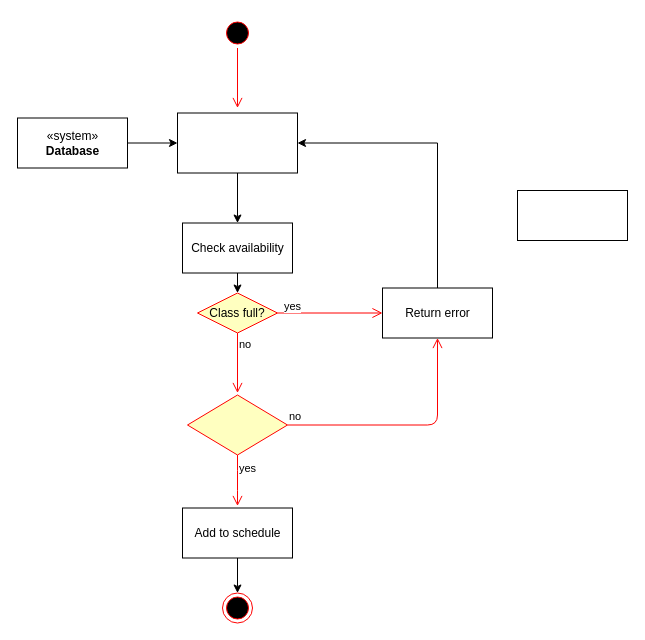
Some shapes in this 645 by 640 pixel diagram are drawn without their labels. Each missing label, with the centre of its shape:
add cancel option: (572,215)
Prerequisites met?: (237,424)
select desired course (CRN lookup): (237,142)
